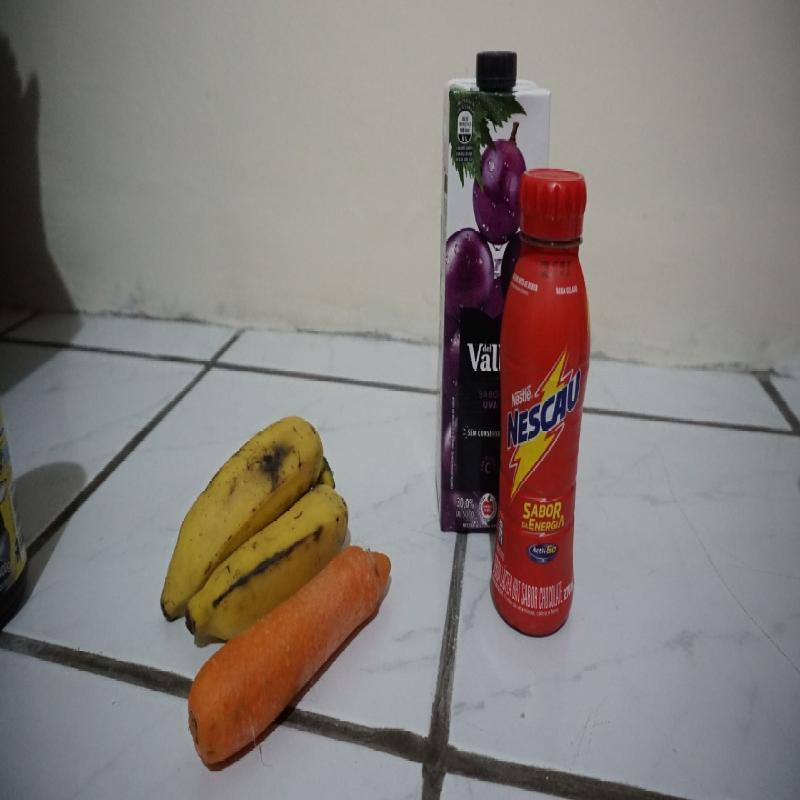Banana: (160, 412, 347, 584)
Carrot: (185, 591, 385, 774)
Chocolate Milk: (493, 171, 590, 641)
